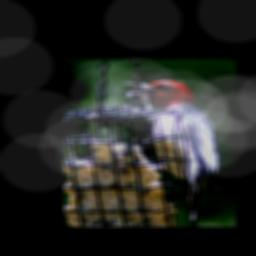Woodpecker: (118, 79, 221, 227)
